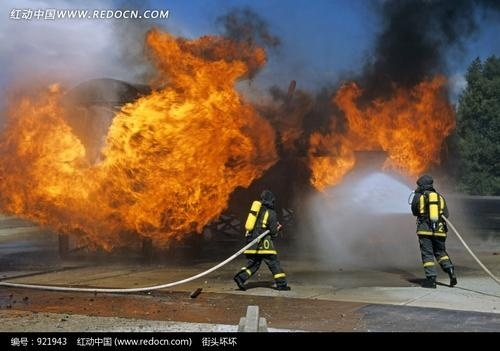fire: (0, 18, 287, 250), (306, 75, 455, 187)
